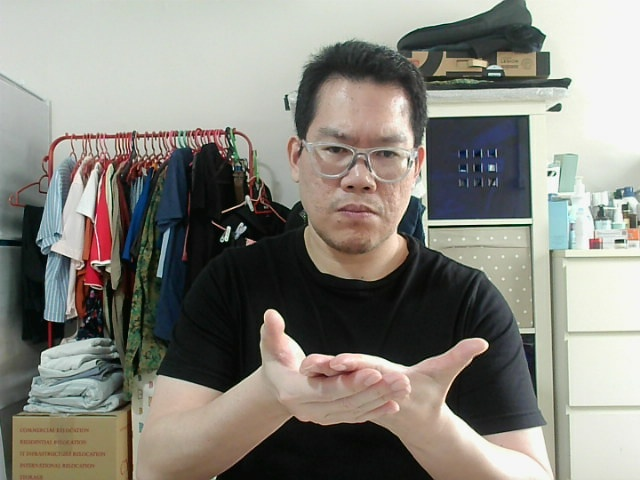good: (270, 321, 392, 423)
